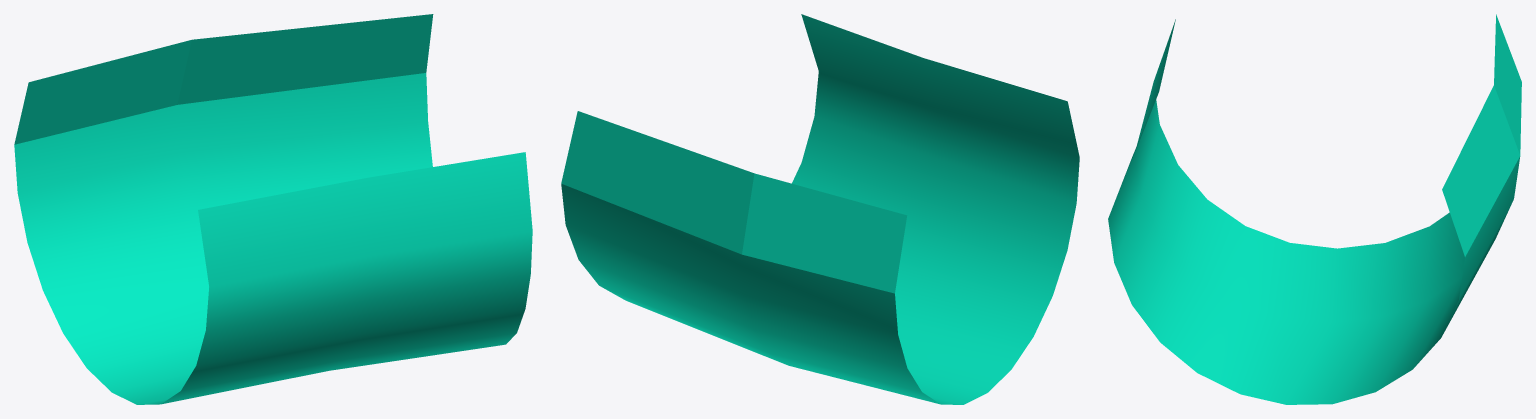
Rendered from Pipe_Collider_Turn_D.fbx.
3 views of the same model, side by side, from view 1: azimuth 30°, elevation 25°; view 2: azimuth 150°, elevation 25°; view 3: azimuth 270°, elevation 25° (orthographic). The views are drawn at different scales.
Visible parts, largest first — view 1: Pipe_Collider_Turn_D; view 2: Pipe_Collider_Turn_D; view 3: Pipe_Collider_Turn_D.
Boxes of the visible parts, x1,y1,x2,y2 form: Pipe_Collider_Turn_D: (14, 14, 532, 404); Pipe_Collider_Turn_D: (561, 14, 1079, 404); Pipe_Collider_Turn_D: (1108, 14, 1521, 404).
Bounding box in the file's own units: 3.85 × 2.43 × 3.82.
